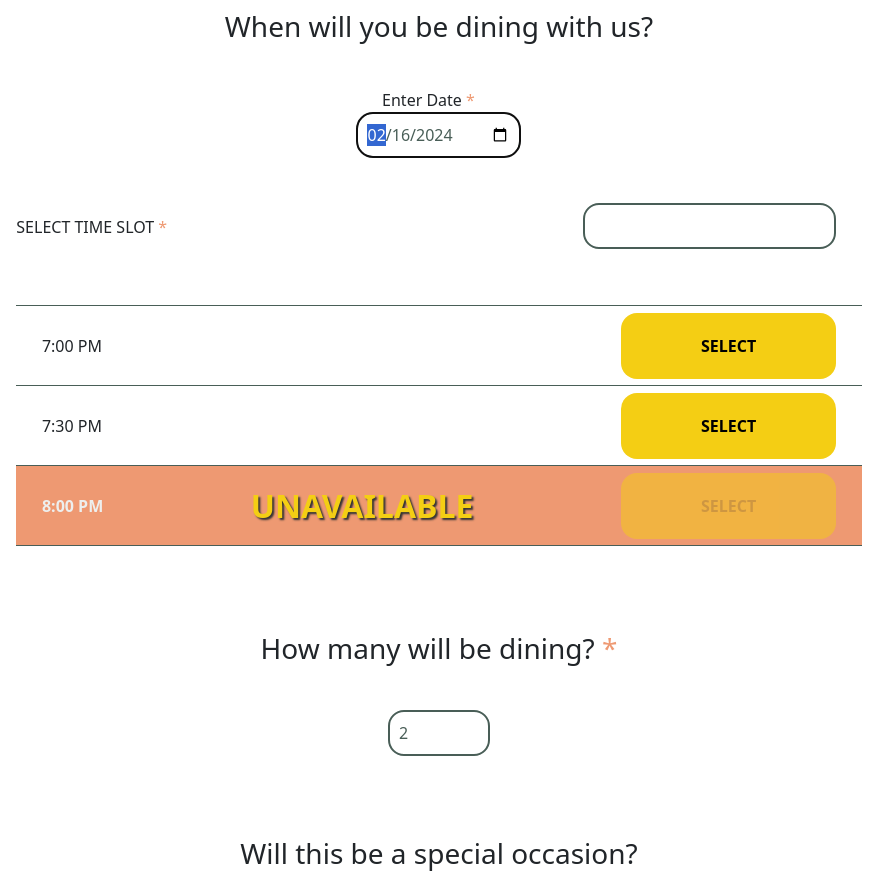
Test: shows selected time slot when selected
The image size is (879, 875).
(page scrolled)
Click the button with test id "7:30 PM" at point(729, 426), box top-left (621, 393), bottom-right (836, 459)
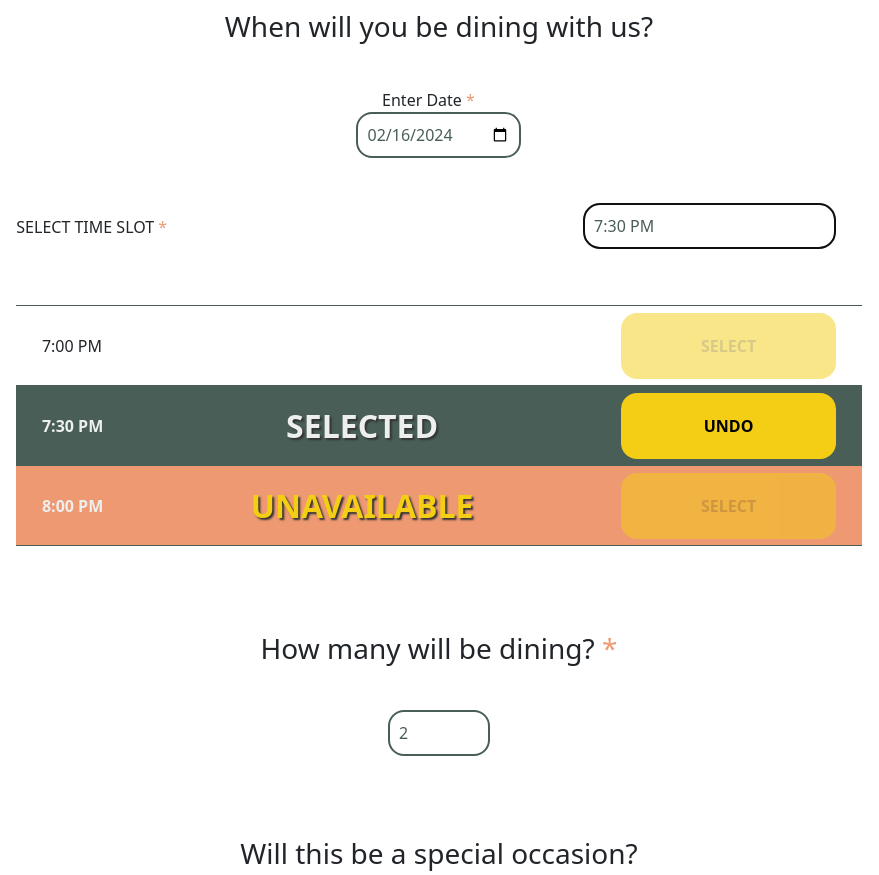
Expected: the field showing "7:30 PM" is shown, top-left (583, 203), bottom-right (836, 249)
